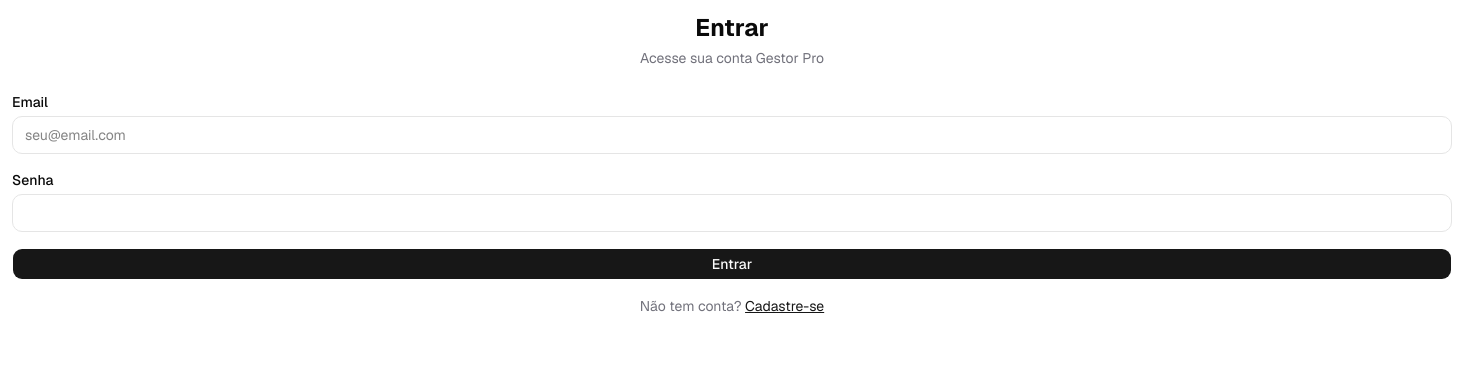
Test: LoginForm › displays root error on failed signIn
Step 1. Type "a@b.com" into the field labelled "Email" → (732, 135), box top-left (12, 116), bottom-right (1452, 154)
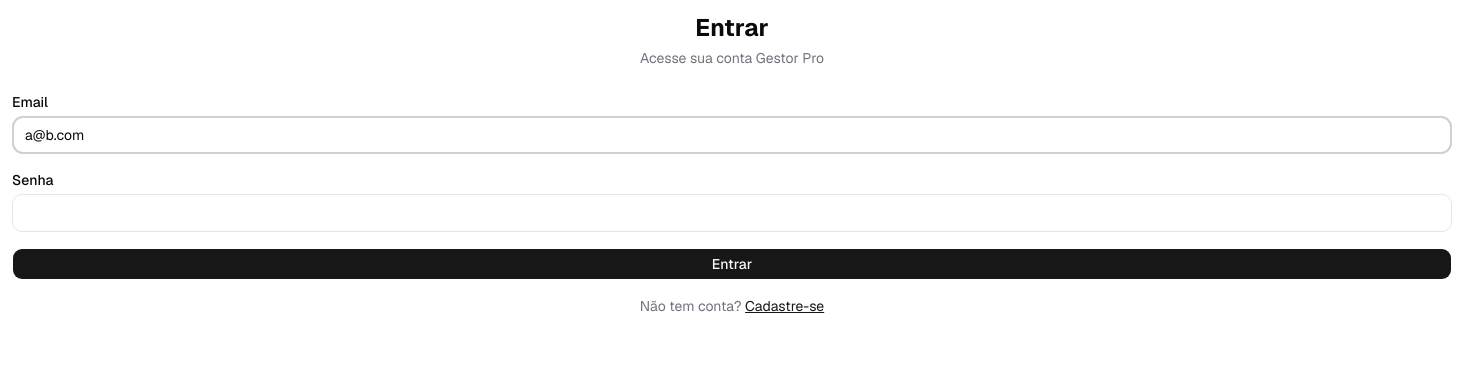
Step 2. Type "123456" into the password field labelled "Senha" → (732, 213), box top-left (12, 194), bottom-right (1452, 232)
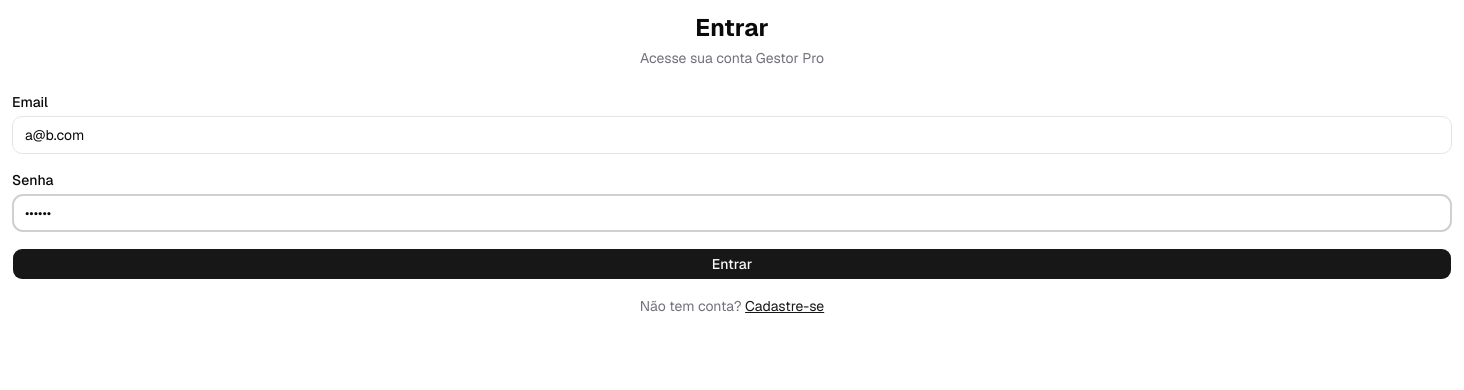
Step 3. Click the button "Entrar" → (732, 264), box top-left (12, 248), bottom-right (1452, 280)
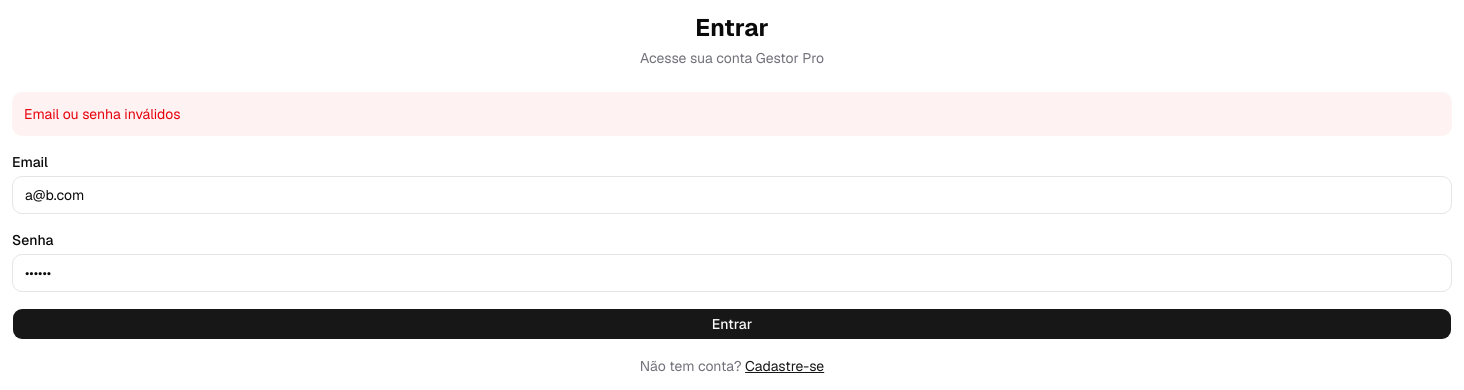
Now the text "Email ou senha inválidos" is shown, box top-left (12, 92), bottom-right (1452, 136)
